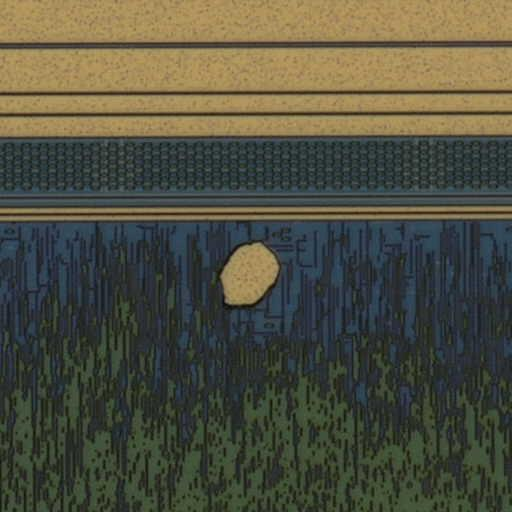BLOCK ETCH: (207, 234, 291, 318)
